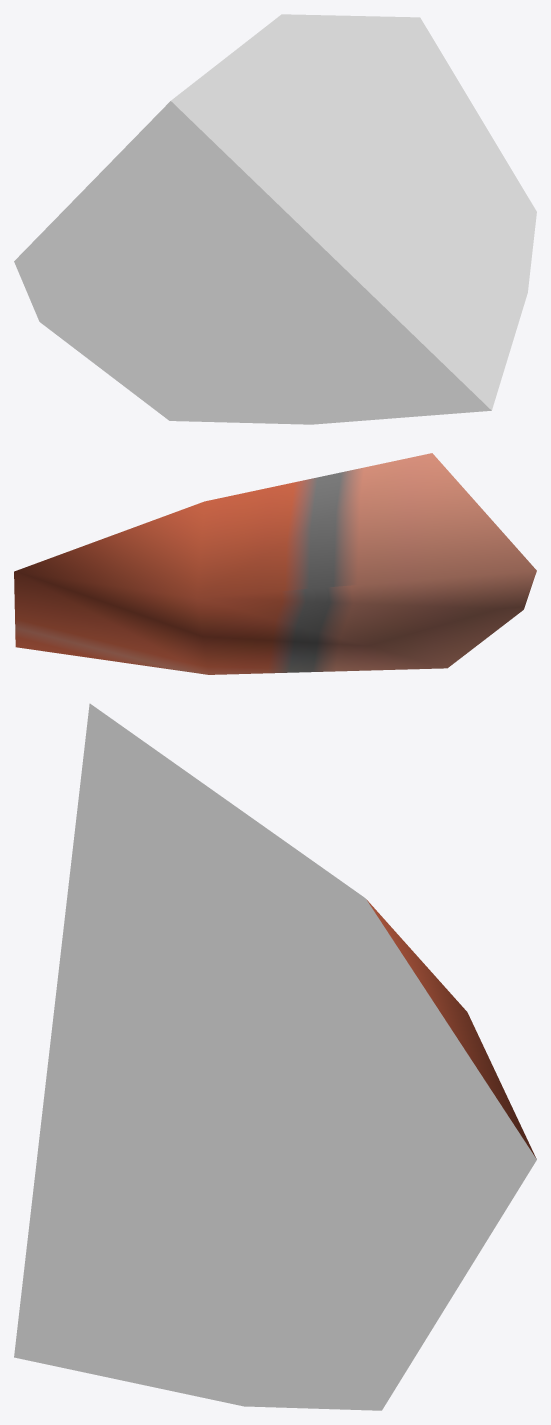
File: MediumVase_SHAT_cell_012.fbx
The picture shows the model from 3 angles, top to bottom: view 1: azimuth 30°, elevation 25°; view 2: azimuth 150°, elevation 25°; view 3: azimuth 270°, elevation 25°; orthographic projection. The views are drawn at different scales.
Parts seen in each view (by area): view 1: MediumVase_SHAT_cell_012; view 2: MediumVase_SHAT_cell_012; view 3: MediumVase_SHAT_cell_012.
Part boxes in pixels (x1,y1,x2,y2): MediumVase_SHAT_cell_012: (14, 14, 536, 424); MediumVase_SHAT_cell_012: (14, 453, 536, 674); MediumVase_SHAT_cell_012: (14, 703, 536, 1410).
Bounding box in the file's own units: 0.0897 × 0.0489 × 0.0495.
Materials: 2 (1 with a texture image).
